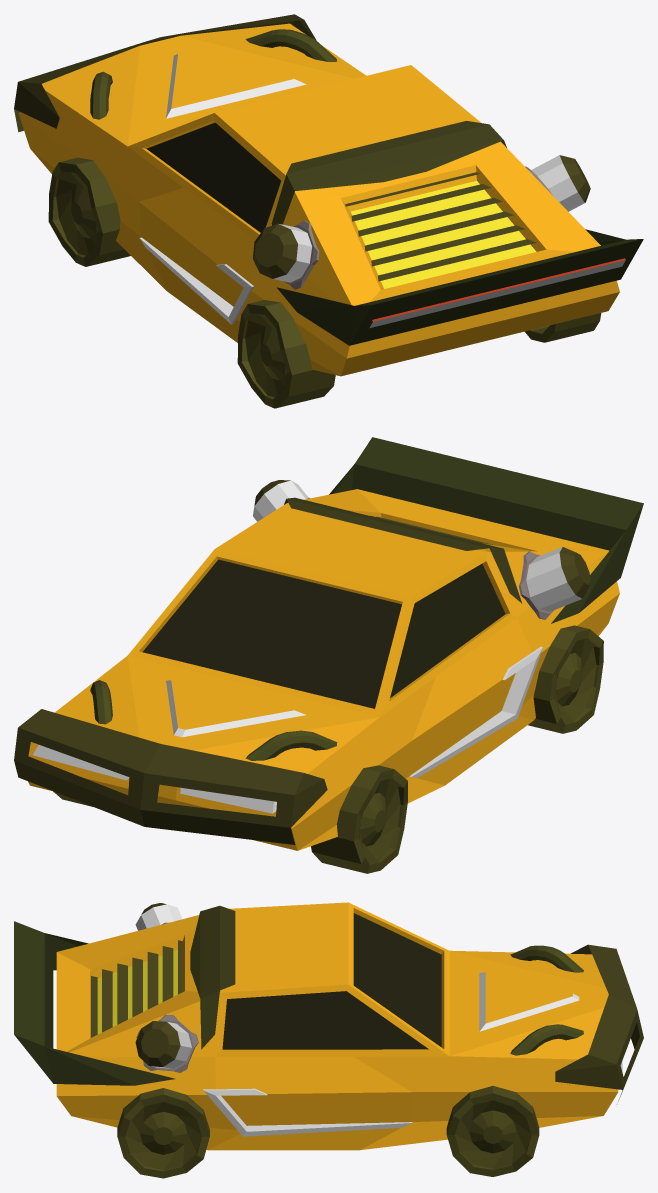
Rendered from Player_Car_Demon.fbx.
3 views of the same model, one above another, from view 1: azimuth 30°, elevation 25°; view 2: azimuth 150°, elevation 25°; view 3: azimuth 270°, elevation 25° (orthographic). The views are drawn at different scales.
Parts seen in each view (by area): view 1: Demon_LOD0; view 2: Demon_LOD0; view 3: Demon_LOD0.
Part boxes in pixels (left/top/right/bottom): Demon_LOD0: left=14, top=14, right=643, bottom=408; Demon_LOD0: left=14, top=437, right=643, bottom=873; Demon_LOD0: left=14, top=902, right=643, bottom=1178.
Size of the model in its own units: 233 by 134 by 452.
